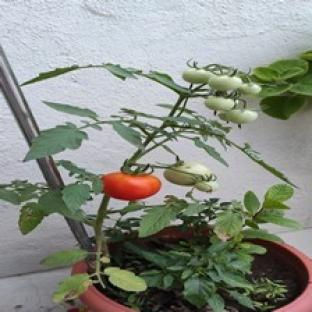Tomato: (102, 172, 161, 200), (163, 162, 211, 185), (219, 109, 257, 123), (208, 76, 242, 90), (183, 69, 214, 83), (205, 97, 235, 111), (239, 83, 261, 94), (195, 182, 218, 192)
